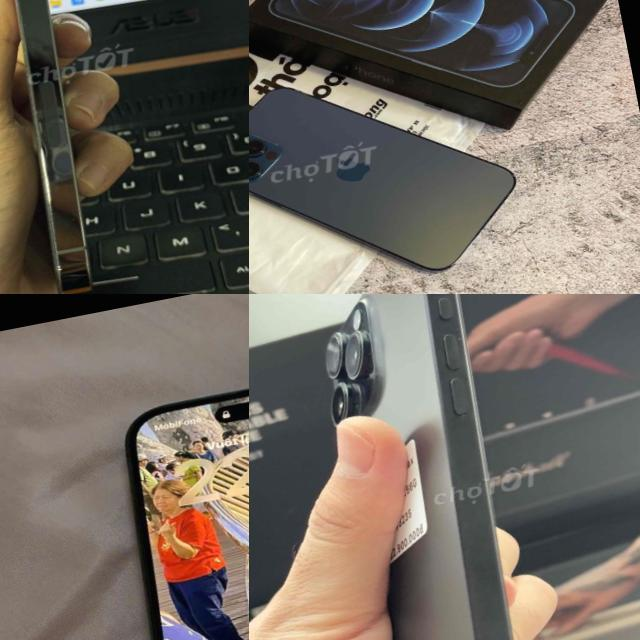gen_12_13: (249, 43, 537, 294), (0, 0, 139, 294)
gen_14: (88, 339, 249, 640)
gen_16: (325, 294, 511, 640)
